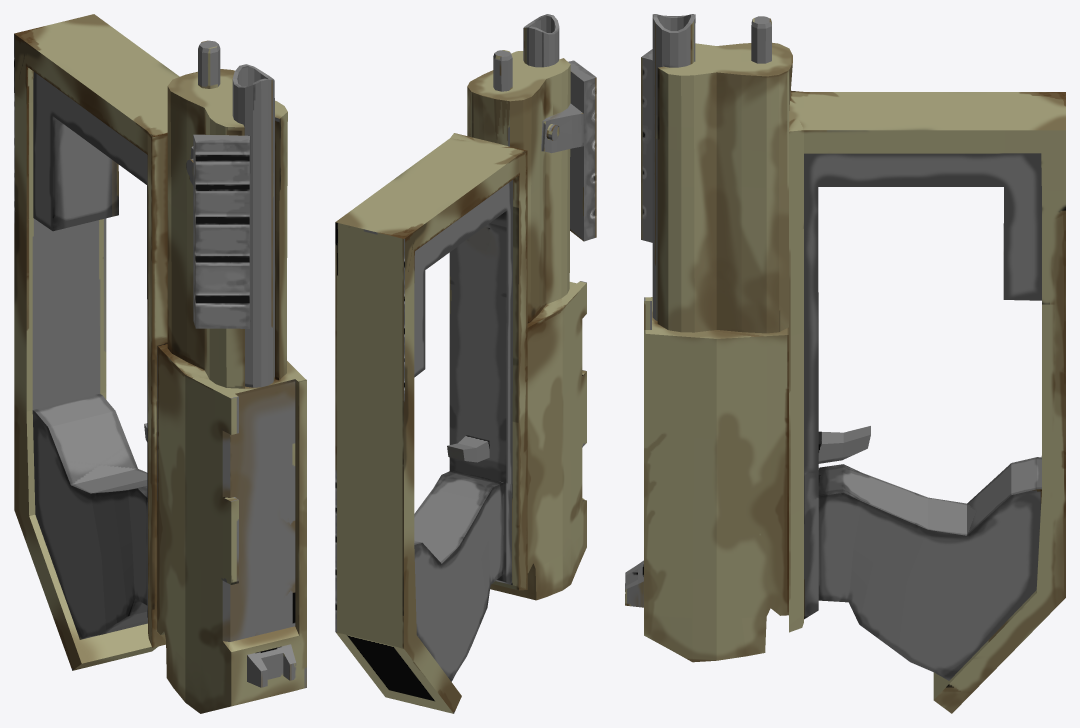
File: Pistola.fbx
3 views of the same model, side by side, from view 1: azimuth 30°, elevation 25°; view 2: azimuth 150°, elevation 25°; view 3: azimuth 270°, elevation 25° (orthographic). The views are drawn at different scales.
Visible parts, largest first — view 1: cabo; view 2: cabo; view 3: cabo.
Boxes of the visible parts, x1,y1,x2,y2 form: cabo: (14,14,306,713); cabo: (335,14,596,713); cabo: (625,14,1065,713).
Bounding box in the file's own units: 86.07 × 528 × 311.
Materials: 1 (1 with a texture image).
